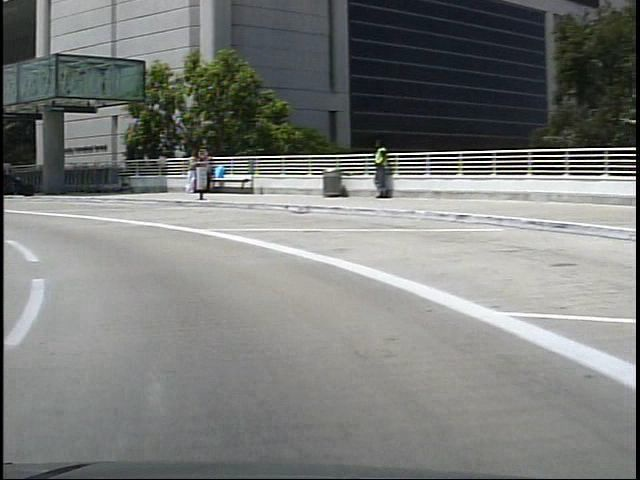person: (362, 141, 386, 205)
